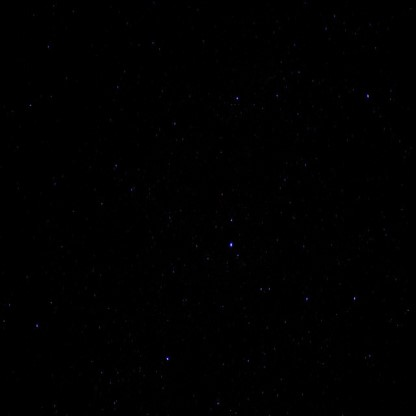Cassiopeia: (161, 351, 178, 369), (344, 290, 363, 305), (360, 89, 378, 104), (223, 235, 240, 250), (31, 318, 48, 332)
